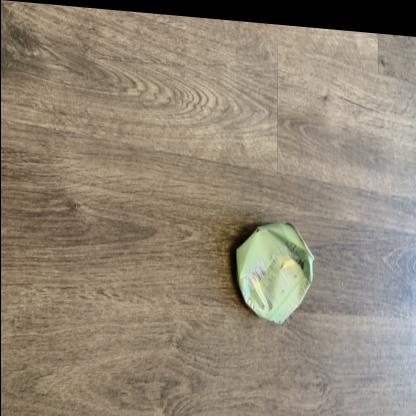trash: (236, 223, 313, 323)
